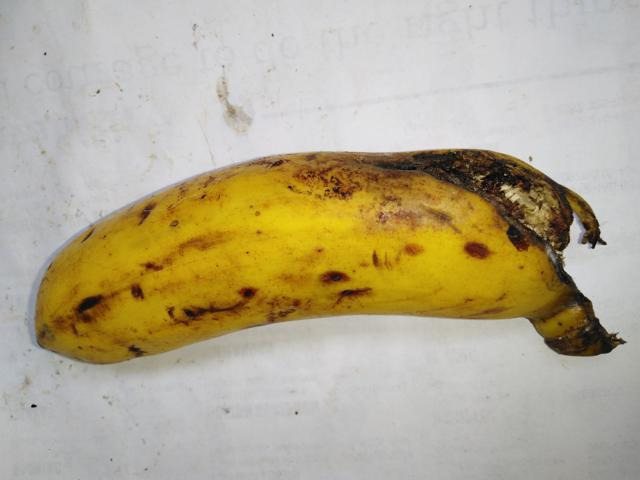ripe: (23, 130, 456, 411)
rotten: (349, 106, 614, 316)
